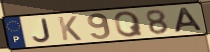8: (145, 9, 170, 36)
9: (86, 12, 112, 40)
A: (174, 7, 205, 34)
J: (32, 17, 53, 43)
K: (56, 15, 83, 42)
Q: (113, 10, 145, 38)
